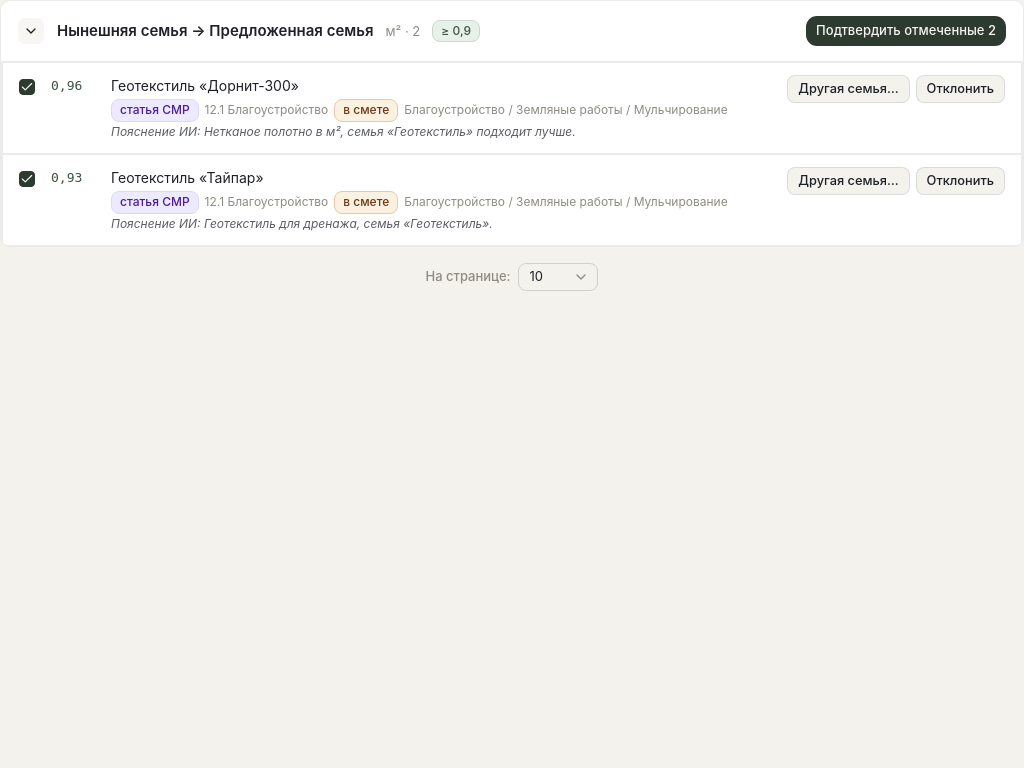
Test: ChangeQueue › «Другая семья…» не предлагает ни предложенную, ни нынешнюю семью контекстов
Click the button "Другая семья…" in the row of "Геотекстиль «Дорнит-300»". click: (848, 89)
box: [787,75,910,103]
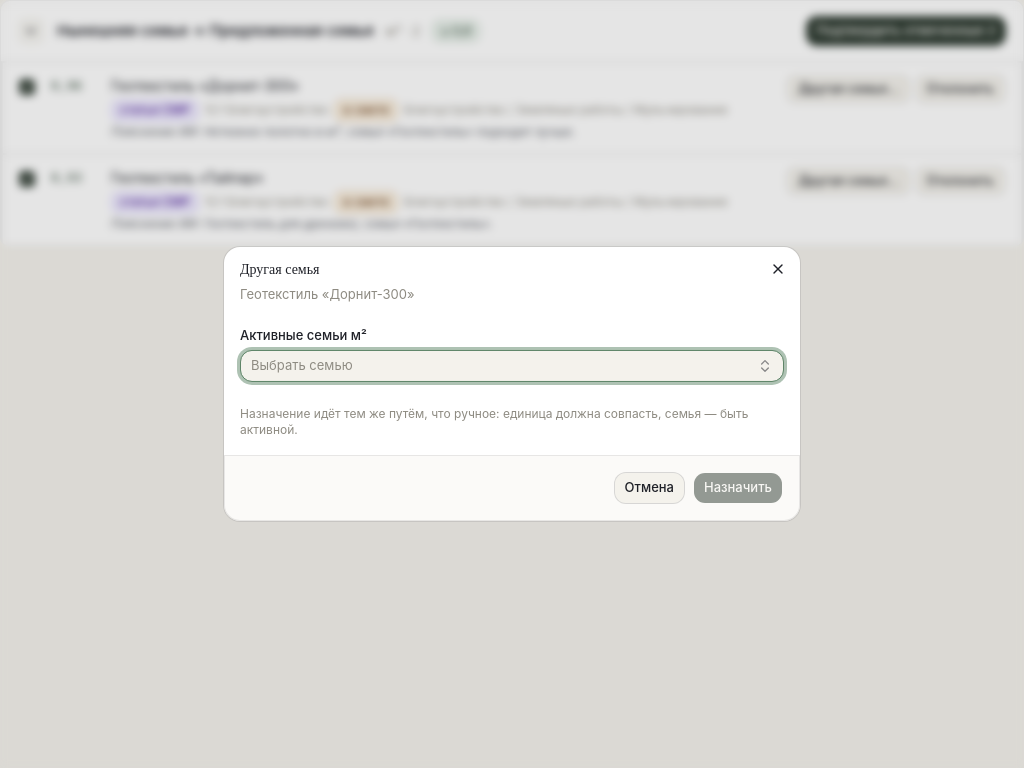
Click the dropdown named "Активные семьи м²". click: (302, 365)
box: [240,350,784,382]
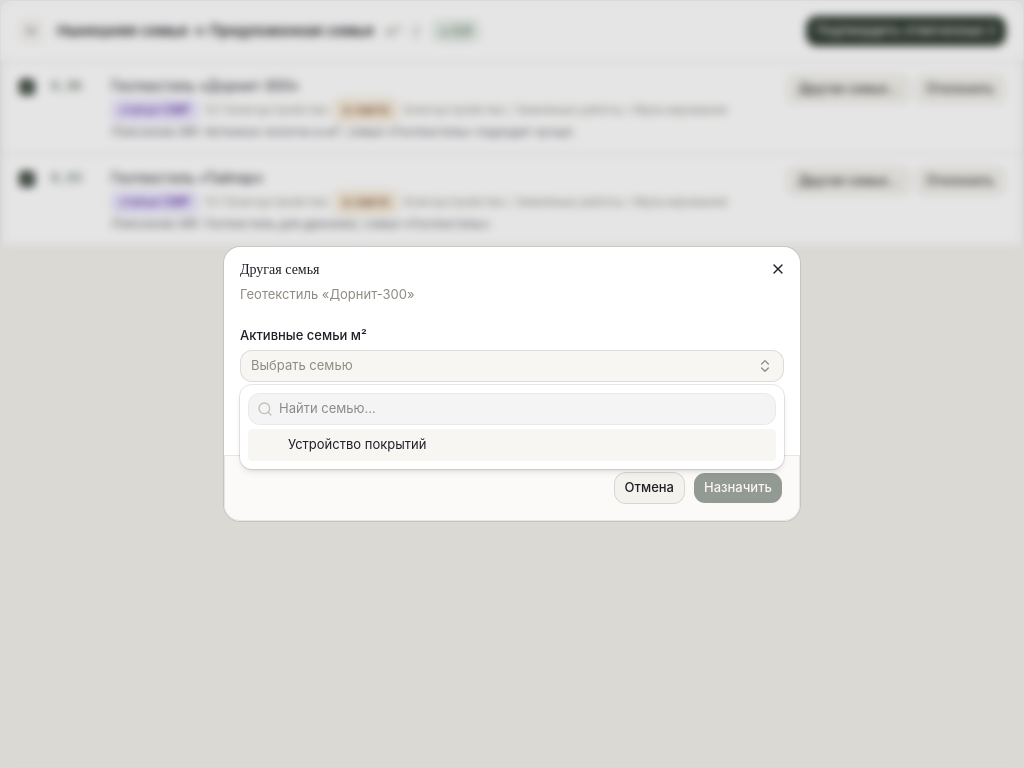
Check: the option "Устройство покрытий" is shown, box [248,429,776,460]
